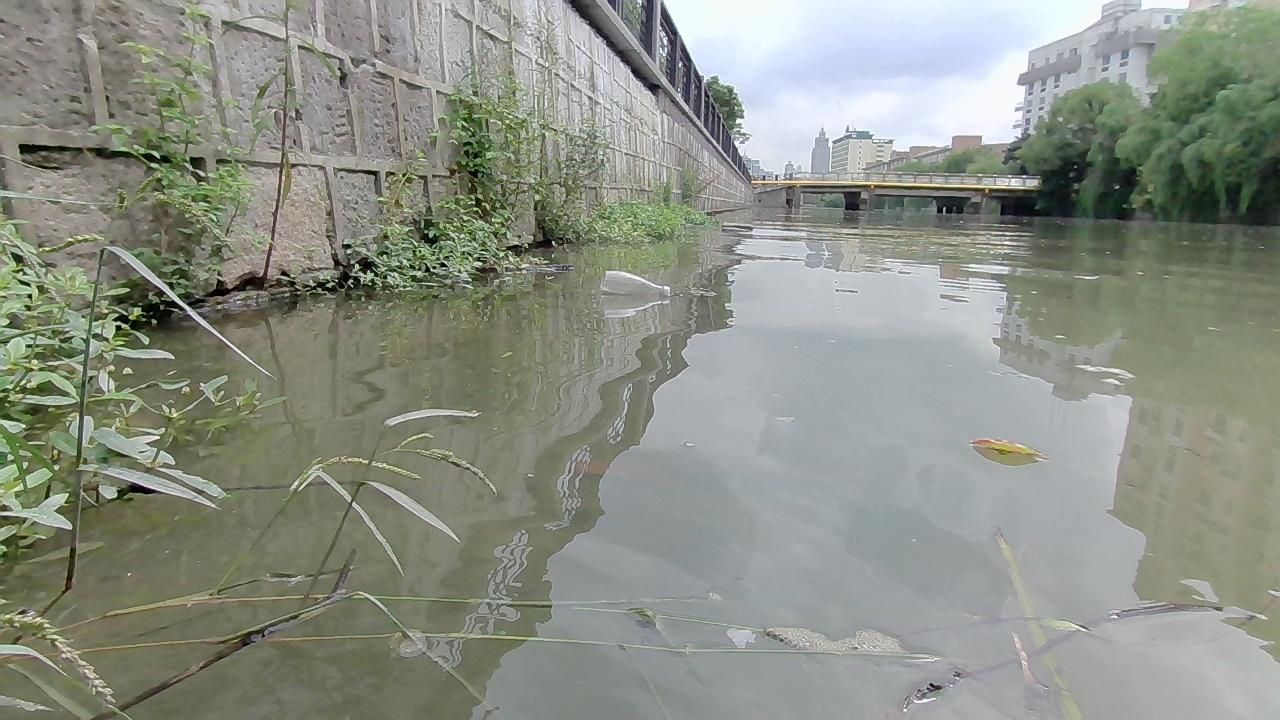bottle: (602, 266, 670, 301)
